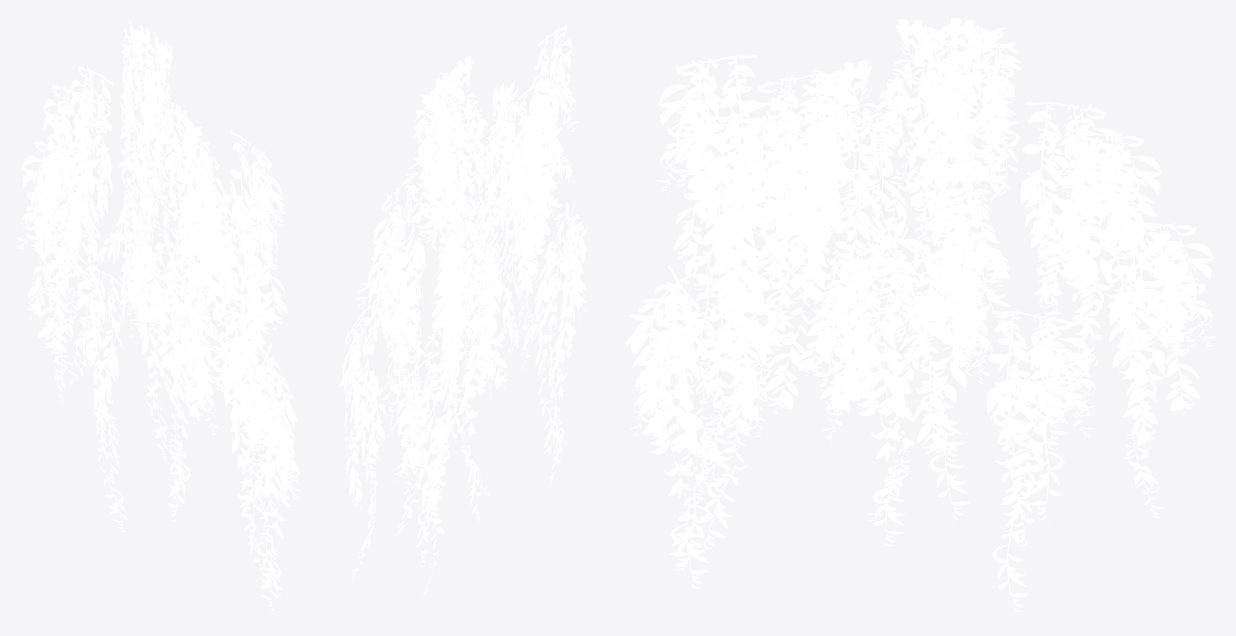
3 views of the same model, side by side, from view 1: azimuth 30°, elevation 25°; view 2: azimuth 150°, elevation 25°; view 3: azimuth 270°, elevation 25° (orthographic). The views are drawn at different scales.
Visible parts, largest first — view 1: SM_GF_Climbing_A_08_LOD0; view 2: SM_GF_Climbing_A_08_LOD0; view 3: SM_GF_Climbing_A_08_LOD0.
Part boxes in pixels (<box>): SM_GF_Climbing_A_08_LOD0: <box>17,20,301,617</box>; SM_GF_Climbing_A_08_LOD0: <box>338,24,587,599</box>; SM_GF_Climbing_A_08_LOD0: <box>625,18,1216,618</box>.
Size of the model in its own units: 0.7971 by 5.72 by 5.15.
1 material, 1 textured.
